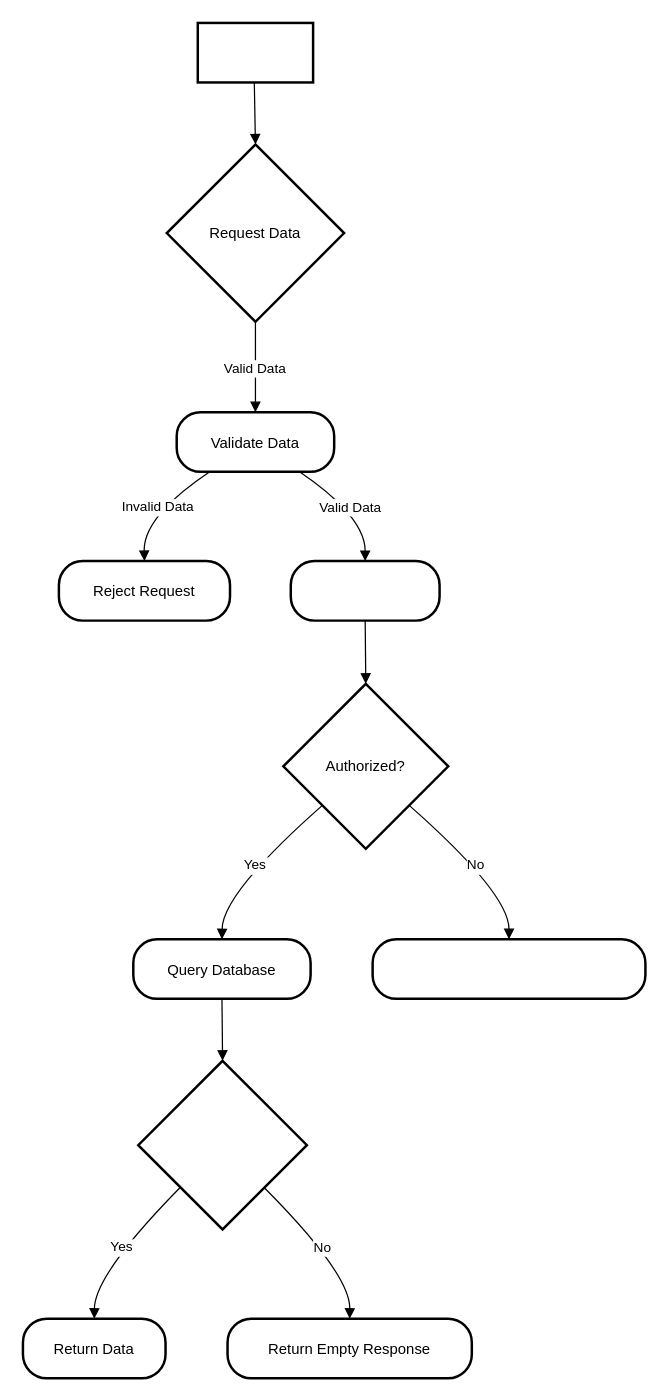
The diagram is 667 pixels wide and 1400 high, and some of its shapes have lost their labels. Here are the shapes that lost their labels. From the top down, the centre of each, then its label:
At (x=255, y=52): "User".
At (x=364, y=590): "Process Data".
At (x=508, y=968): "Return Unauthorized Error".
At (x=222, y=1144): "Data Found?".
